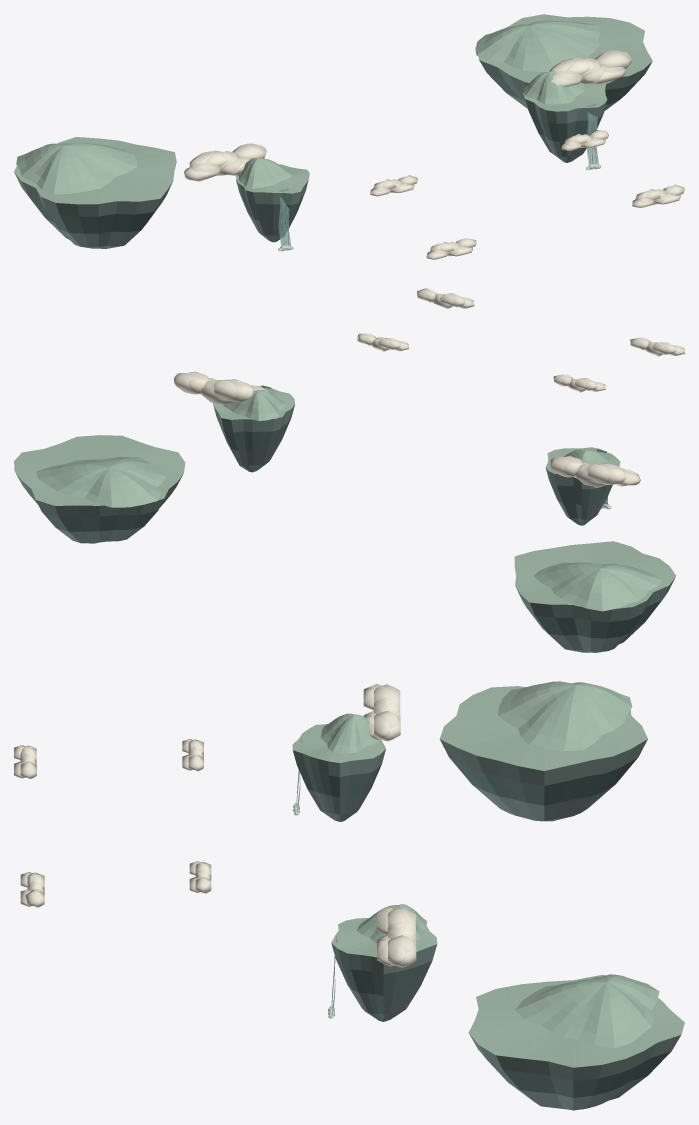
3 views of the same model, one above another, from view 1: azimuth 30°, elevation 25°; view 2: azimuth 150°, elevation 25°; view 3: azimuth 270°, elevation 25° (orthographic). The views are drawn at different scales.
Parts seen in each view (by area): view 1: environment_Muted moss ledges, environment_Porcelain cloud banks, environment_Distant cool sandstone, environment_Distant stratified deep rock, environment_Turquoise waterfall ribbons, environment_Pale waterfall foam; view 2: environment_Muted moss ledges, environment_Distant cool sandstone, environment_Porcelain cloud banks, environment_Distant stratified deep rock; view 3: environment_Muted moss ledges, environment_Distant cool sandstone, environment_Distant stratified deep rock, environment_Porcelain cloud banks.
Part boxes in pixels (bbox=[...]): environment_Muted moss ledges: bbox=[14, 14, 652, 204]; environment_Porcelain cloud banks: bbox=[184, 50, 684, 259]; environment_Distant cool sandstone: bbox=[14, 60, 652, 246]; environment_Distant stratified deep rock: bbox=[23, 73, 643, 248]; environment_Turquoise waterfall ribbons: bbox=[278, 103, 598, 247]; environment_Pale waterfall foam: bbox=[278, 104, 600, 251]; environment_Muted moss ledges: bbox=[14, 386, 675, 611]; environment_Distant cool sandstone: bbox=[15, 404, 675, 651]; environment_Porcelain cloud banks: bbox=[174, 288, 684, 487]; environment_Distant stratified deep rock: bbox=[30, 419, 661, 652]; environment_Muted moss ledges: bbox=[292, 681, 684, 1067]; environment_Distant cool sandstone: bbox=[293, 739, 680, 1110]; environment_Distant stratified deep rock: bbox=[297, 757, 671, 1109]; environment_Porcelain cloud banks: bbox=[14, 684, 416, 967].
Size of the model in its own units: 61.3 by 12.7 by 46.01.
6 materials, 6 textured.
